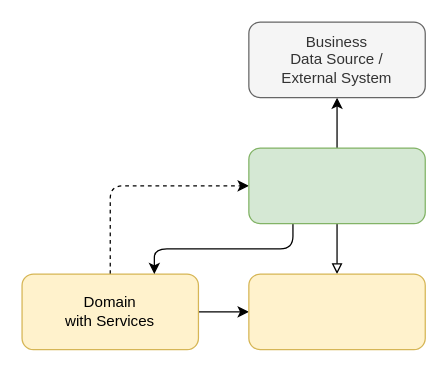
This 447x372 diagram has some shape labels left out. Here are the shapes that lost their labels. From the top down, the centre of each, then its label:
the point at 336,185: Domain Adapters
the point at 336,311: Domain Ports
